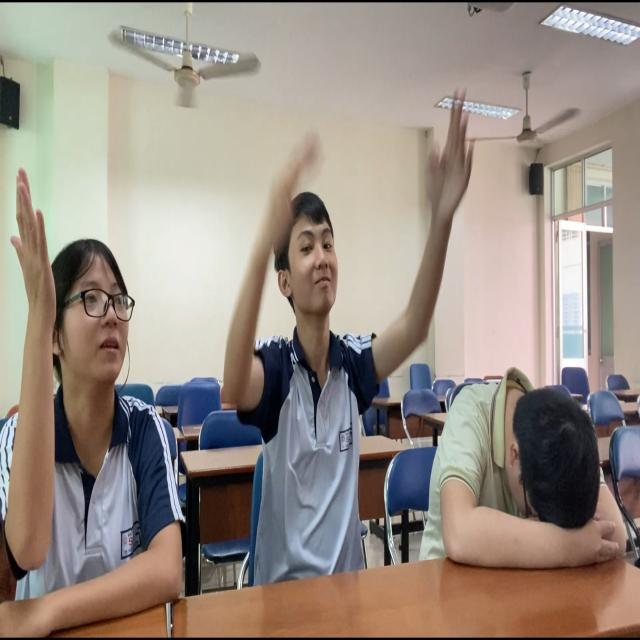raise_hand: (1, 165, 189, 640)
sleep: (415, 366, 636, 591)
